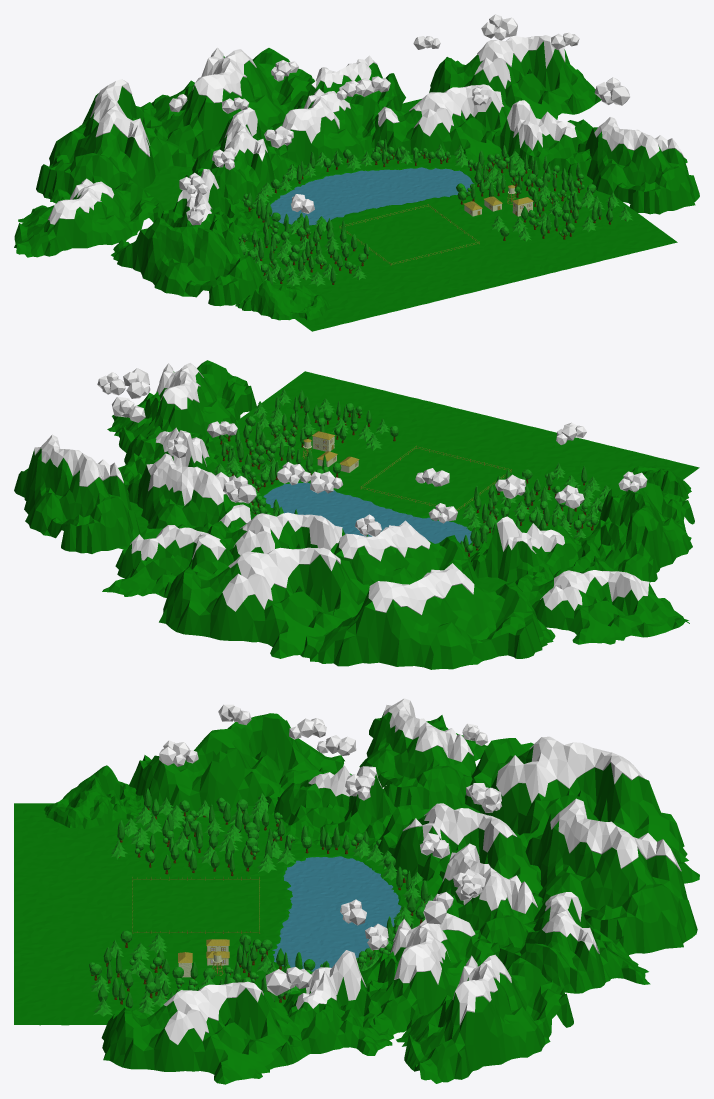
The model's file is env_1st_2_flat2.FBX.
3 views of the same model, one above another, from view 1: azimuth 30°, elevation 25°; view 2: azimuth 150°, elevation 25°; view 3: azimuth 270°, elevation 25° (orthographic). The views are drawn at different scales.
Parts seen in each view (by area): view 1: ground_1, mountain_10, mountain_13, mountain_11, lake, mountain_14, mountain_07, mountain_01, mountain_04, mountain_03, mountain_08, mountain_02 (+17 smaller); view 2: ground_1, mountain_13, mountain_11, mountain_14, mountain_10, mountain_07, mountain_01, lake, mountain_09, mountain_12, mountain_08, mountain_04 (+21 smaller); view 3: ground_1, mountain_11, mountain_14, mountain_01, mountain_10, mountain_13, lake, mountain_07, mountain_12, mountain_09, mountain_04, mountain_08 (+20 smaller).
Part boxes in pixels (x1,y1,x2,y2): ground_1: [144, 99, 677, 331]; mountain_10: [111, 217, 264, 306]; mountain_13: [36, 86, 195, 199]; mountain_11: [151, 48, 313, 158]; lake: [270, 167, 474, 225]; mountain_14: [429, 41, 601, 119]; mountain_07: [14, 180, 164, 257]; mountain_01: [577, 127, 699, 214]; mountain_04: [371, 94, 510, 163]; mountain_03: [266, 94, 381, 165]; mountain_08: [181, 117, 309, 204]; mountain_02: [492, 119, 592, 176]; ground_1: [118, 371, 699, 592]; mountain_13: [300, 581, 547, 669]; mountain_11: [159, 554, 369, 658]; mountain_14: [14, 448, 140, 553]; mountain_10: [574, 482, 694, 582]; mountain_07: [515, 572, 689, 644]; mountain_01: [107, 360, 256, 452]; lake: [263, 482, 471, 544]; mountain_09: [469, 524, 600, 582]; mountain_12: [102, 528, 233, 597]; mountain_08: [334, 535, 479, 585]; mountain_04: [126, 466, 257, 532]; ground_1: [14, 803, 519, 1025]; mountain_11: [525, 813, 699, 954]; mountain_14: [396, 957, 573, 1083]; mountain_01: [101, 988, 308, 1084]; mountain_10: [129, 713, 344, 814]; mountain_13: [465, 738, 688, 862]; lake: [272, 856, 401, 971]; mountain_07: [359, 712, 487, 809]; mountain_12: [494, 899, 650, 993]; mountain_09: [274, 769, 394, 849]; mountain_04: [359, 929, 500, 1034]; mountain_08: [378, 805, 542, 899].
Bounding box in the file's own units: 6622 × 1109 × 5227.
